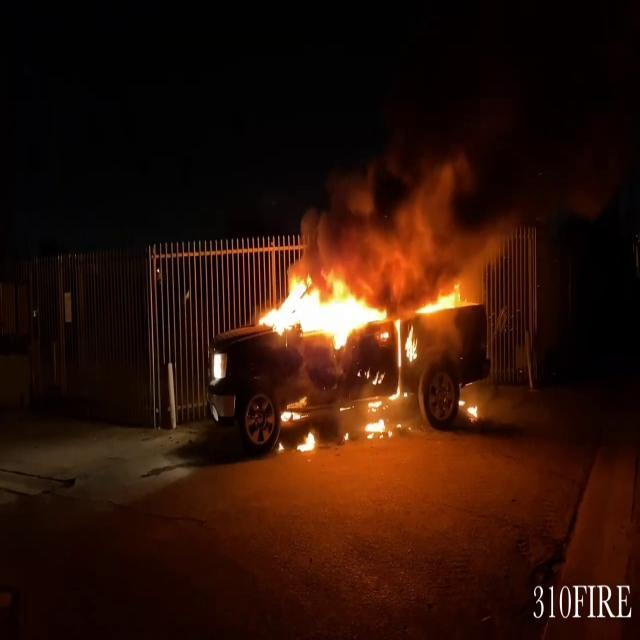Fire: (258, 265, 387, 347)
Smoke: (316, 115, 508, 295)
